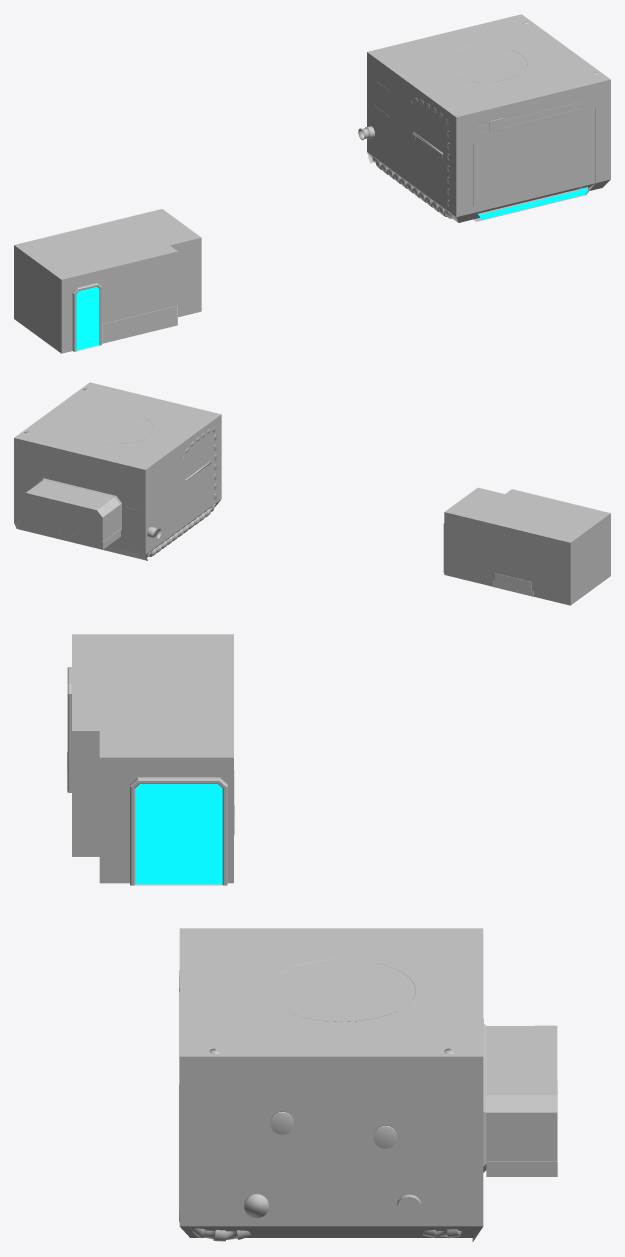
The model's file is PrisonCell.fbx.
3 renders of one model, top to bottom at view 1: azimuth 30°, elevation 25°; view 2: azimuth 150°, elevation 25°; view 3: azimuth 270°, elevation 25°, orthographic. The views are drawn at different scales.
Parts seen in each view (by area): view 1: walls, walls proxy, door proxy.001, brainTentacle3, doorForcefield, doorFrame; view 2: walls, walls proxy, bed wall, bed, brainTentacle3, Cube.013; view 3: walls, walls proxy, door proxy, bed wall, bed.
Boxes of the visible parts, x1=… form: walls: x1=367, y1=14, x2=610, y2=222; walls proxy: x1=14, y1=209, x2=201, y2=353; door proxy.001: x1=72, y1=283, x2=101, y2=351; brainTentacle3: x1=358, y1=97, x2=452, y2=218; doorForcefield: x1=478, y1=187, x2=588, y2=219; doorFrame: x1=467, y1=100, x2=595, y2=221; walls: x1=14, y1=382, x2=221, y2=556; walls proxy: x1=444, y1=487, x2=610, y2=605; bed wall: x1=14, y1=438, x2=147, y2=560; bed: x1=19, y1=522, x2=120, y2=549; brainTentacle3: x1=146, y1=427, x2=216, y2=557; Cube.013: x1=495, y1=573, x2=531, y2=595; walls: x1=179, y1=928, x2=483, y2=1237; walls proxy: x1=72, y1=634, x2=233, y2=883; door proxy: x1=130, y1=777, x2=227, y2=885; bed wall: x1=472, y1=1023, x2=557, y2=1241; bed: x1=486, y1=1081, x2=557, y2=1176.
Bounding box in the file's own units: 2265 × 968 × 414.
